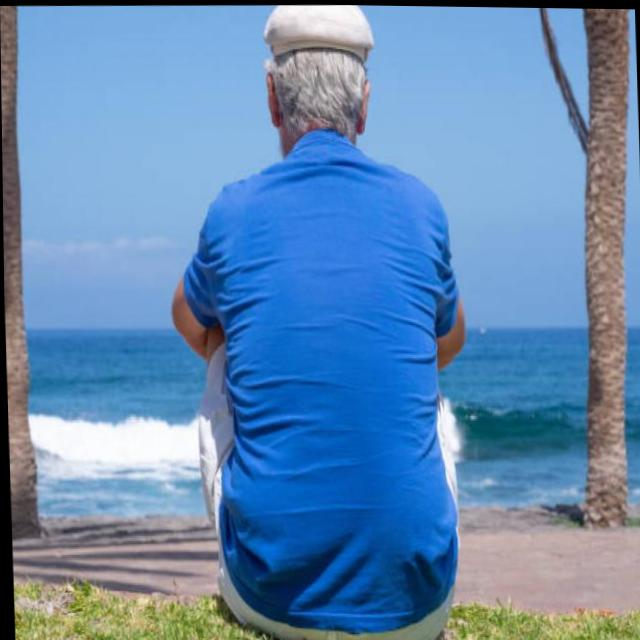no helmet: (238, 3, 385, 164)
